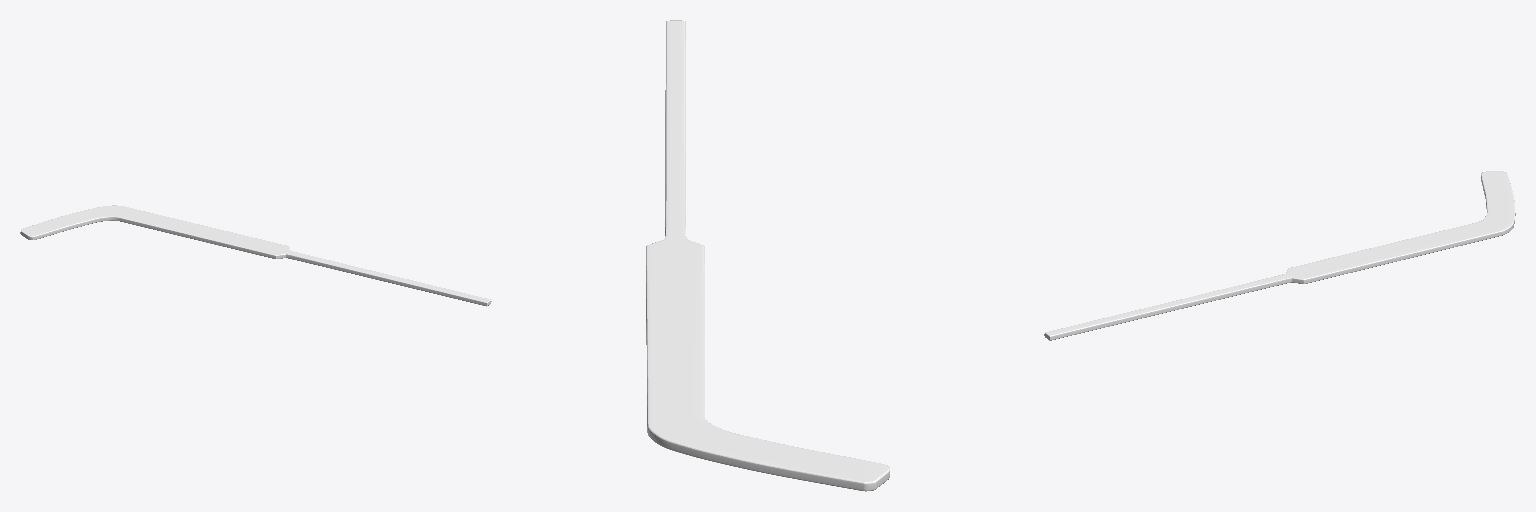
robot.urdf — stick:
<?xml version="1.0" encoding="utf-8"?>
<robot name="stick">
  <link name="base_link">
    <contact>
      <lateral_friction value="0.5"/>
      <rolling_friction value="1"/>
      <contact_cfm value="0.0"/>
      <contact_erp value="1.0"/>
    </contact>
    <inertial>
      <origin rpy="0 0 0" xyz="0 0 0"/>
      <mass value="1"/>
      <inertia ixx="0" ixy="0" ixz="0" iyy="0" iyz="0" izz="0"/>
    </inertial>
    <visual>
      <origin rpy="1.57 0 0" xyz="0 0 0"/>
      <geometry>
        <mesh filename="models/meshes/stick/11746_stick_v2_L3.obj" scale="0.012 0.012 0.012"/>
      </geometry>
      <material name="tray_material">
        <color rgba="1 1 1 1"/>
      </material>
    </visual>
    <collision>
      <origin rpy="1.57 0 0" xyz="0 0 0"/>
      <geometry>
        <mesh filename="models/meshes/stick/11746_stick_v2_L3.obj" scale="0.012 0.012 0.012"/>
      </geometry>
    </collision>
  </link>
</robot>

--- What the picture shows (computed from the rendered views, not written in the file) ---
3 views of the same robot in one strip: view 1: azimuth 30°, elevation 25°; view 2: azimuth 150°, elevation 25°; view 3: azimuth 270°, elevation 25° (orthographic).
Robot: stick — 1 links, 0 joints (none); root link base_link; default pose: all joints at 0.
Visible links, largest first — view 1: base_link; view 2: base_link; view 3: base_link.
Link boxes in pixels (x1=…): base_link: x1=20, y1=205, x2=491, y2=306; base_link: x1=646, y1=20, x2=889, y2=491; base_link: x1=1044, y1=171, x2=1515, y2=340.
Bounding box of the posed robot: 0.9357 × 1.12 × 0.0146 m (x, y, z).
1 mesh visuals loaded from 1 distinct referenced files (1 OBJ).